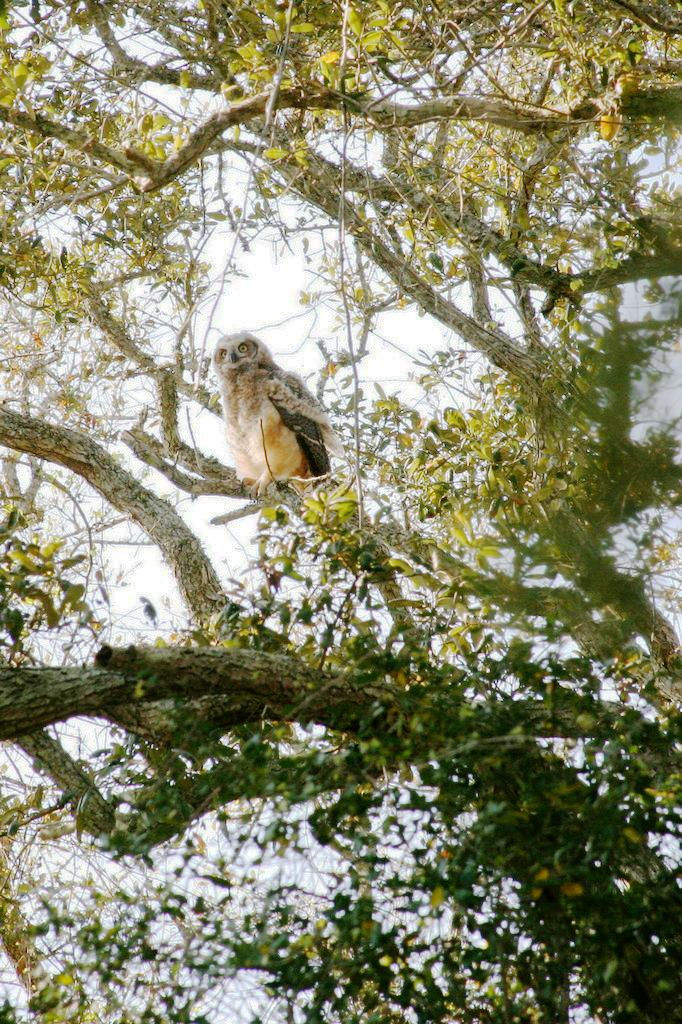Owl: (212, 320, 340, 508)
